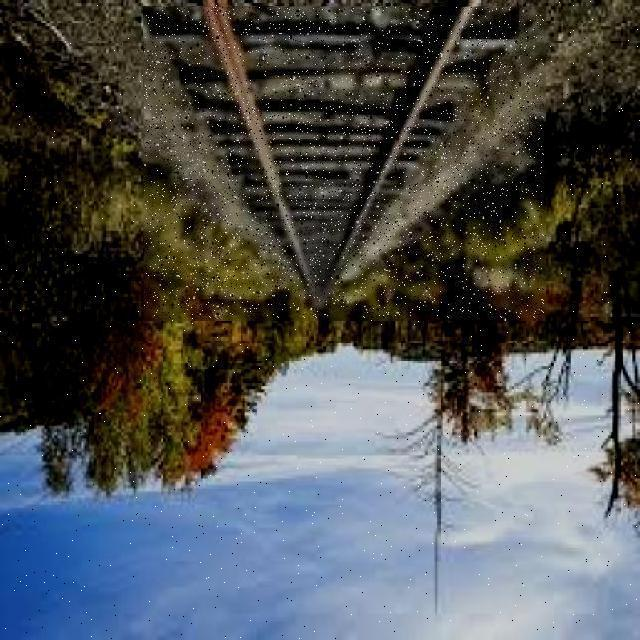rail: (145, 8, 544, 318)
